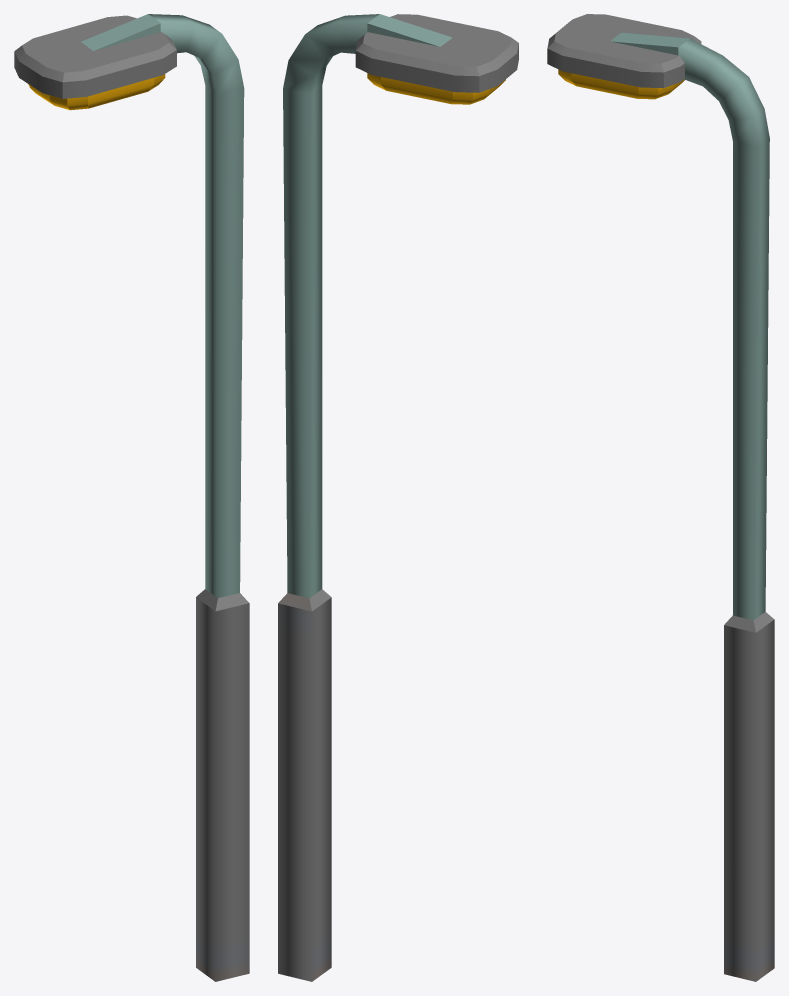
File: SM_City_Light.fbx
3 views of the same model, side by side, from view 1: azimuth 30°, elevation 25°; view 2: azimuth 150°, elevation 25°; view 3: azimuth 330°, elevation 25° (orthographic). The views are drawn at different scales.
Parts seen in each view (by area): view 1: SM_City_Light; view 2: SM_City_Light; view 3: SM_City_Light.
Boxes of the visible parts, x1,y1,x2,y2 form: SM_City_Light: (14,14,249,981); SM_City_Light: (278,14,518,981); SM_City_Light: (547,14,774,981).
Bounding box in the file's own units: 194 × 833 × 87.99.
